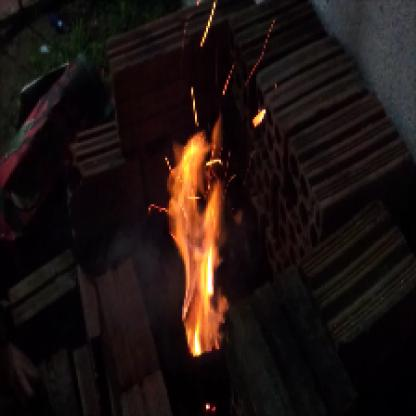Fire: (160, 115, 234, 357)
